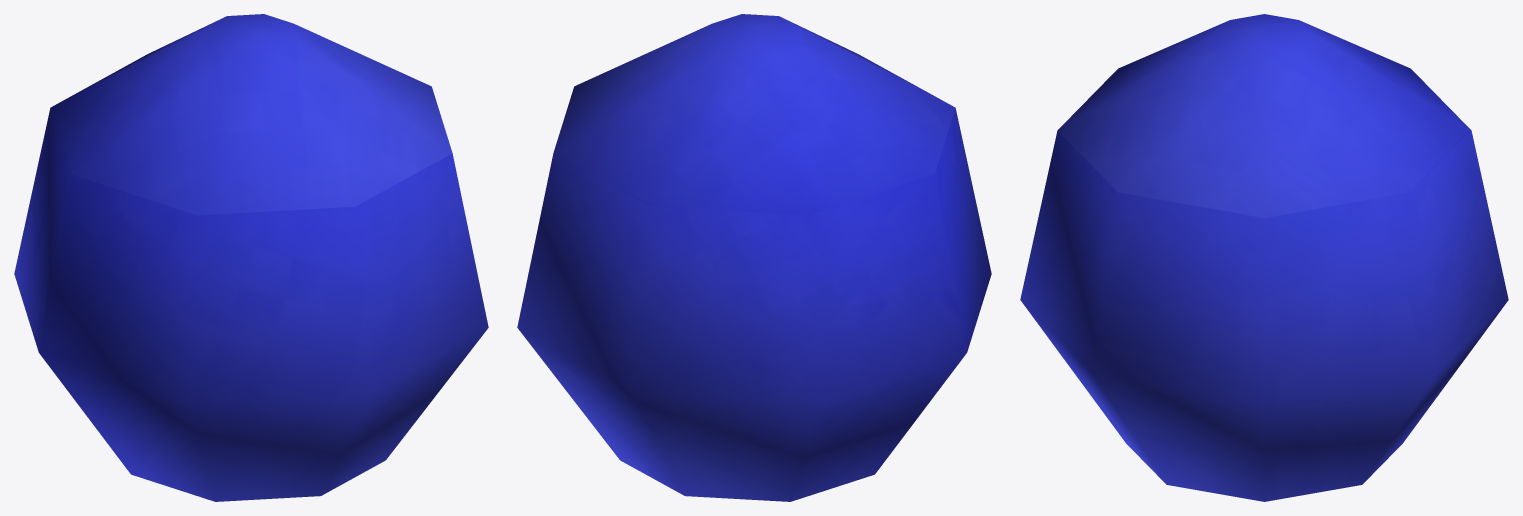
Rendered from bullet1.obj.
3 views of the same model, side by side, from view 1: azimuth 30°, elevation 25°; view 2: azimuth 150°, elevation 25°; view 3: azimuth 270°, elevation 25° (orthographic).
Visible parts, largest first — view 1: Cube; view 2: Cube; view 3: Cube.
Part boxes in pixels (box(x1,y1,x2,y2)): Cube: box(14, 14, 488, 501); Cube: box(517, 14, 991, 501); Cube: box(1020, 14, 1508, 501).
Size of the model in its own units: 2.01 by 2.05 by 2.01.
